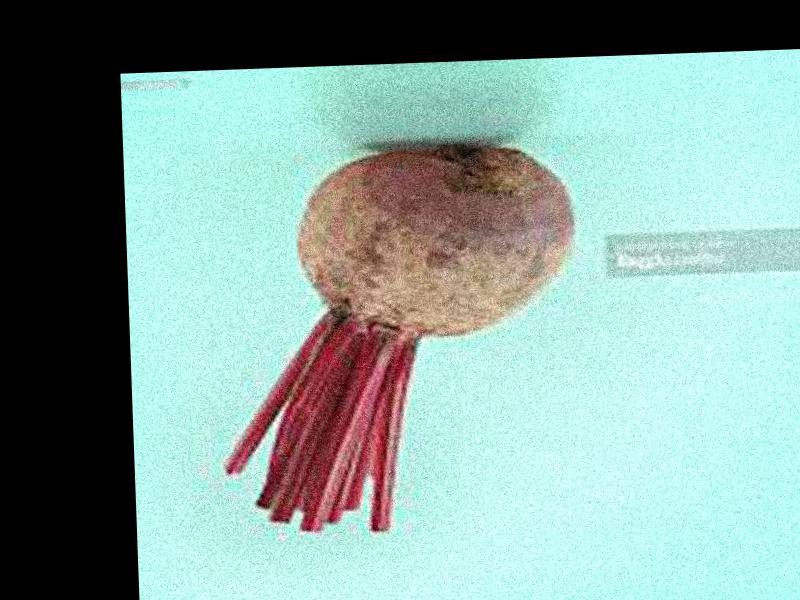Beet: (216, 139, 585, 538)
